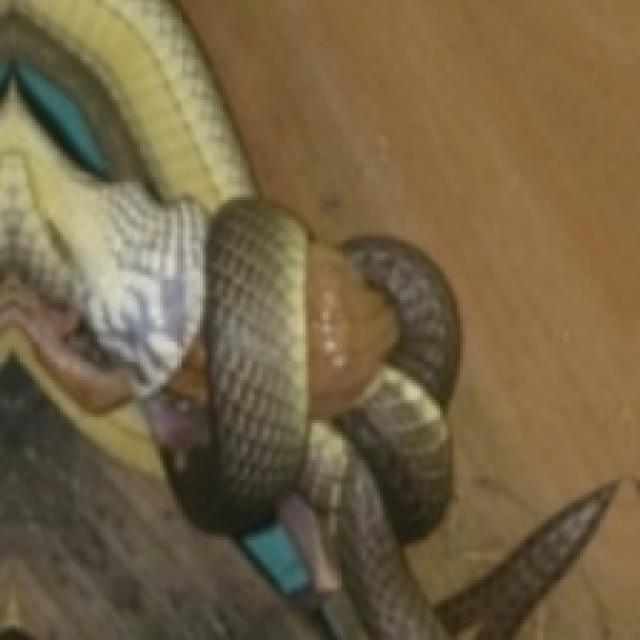paradise tree snake: (177, 0, 637, 637), (3, 463, 317, 637)
